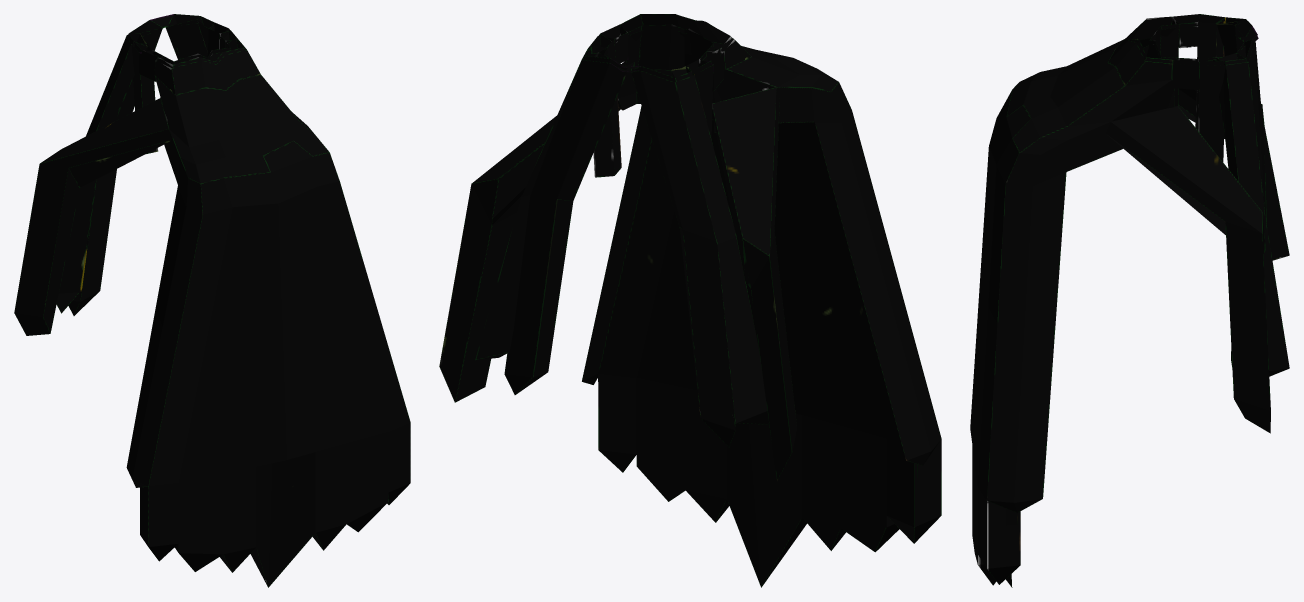
Rendered from infernoRiffHAIR.fbx.
The picture shows the model from 3 angles, left to right: view 1: azimuth 30°, elevation 25°; view 2: azimuth 150°, elevation 25°; view 3: azimuth 270°, elevation 25°; orthographic projection. The views are drawn at different scales.
Visible parts, largest first — view 1: ORCHAIR; view 2: ORCHAIR; view 3: ORCHAIR.
Part boxes in pixels (<box>): ORCHAIR: <box>14,14,410,587</box>; ORCHAIR: <box>439,14,941,587</box>; ORCHAIR: <box>970,14,1289,587</box>.
Bounding box in the file's own units: 519 × 878 × 458.
1 material, 1 textured.
